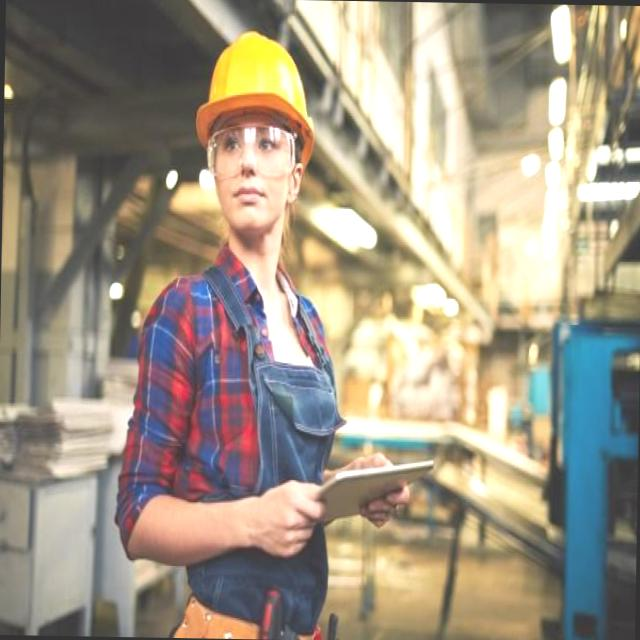helmet: (193, 29, 323, 142)
no-vest: (124, 249, 338, 594)
